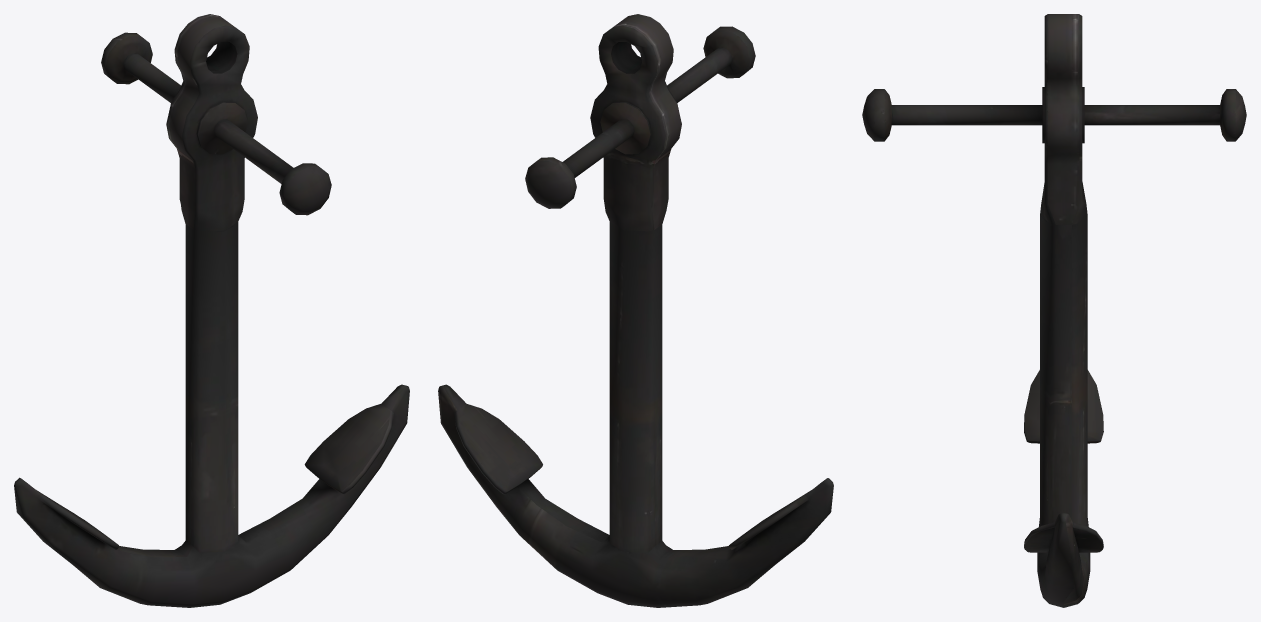
The picture shows the model from 3 angles, left to right: view 1: azimuth 30°, elevation 25°; view 2: azimuth 150°, elevation 25°; view 3: azimuth 270°, elevation 25°; orthographic projection.
Visible parts, largest first — view 1: body0_model0_lod0_mesh0; view 2: body0_model0_lod0_mesh0; view 3: body0_model0_lod0_mesh0.
Part boxes in pixels (left/top/right/bottom): body0_model0_lod0_mesh0: left=14, top=14, right=409, bottom=607; body0_model0_lod0_mesh0: left=438, top=14, right=833, bottom=607; body0_model0_lod0_mesh0: left=862, top=14, right=1246, bottom=607.
Size of the model in its own units: 37.69 by 53.17 by 32.36.
Materials: 1 (1 with a texture image).
